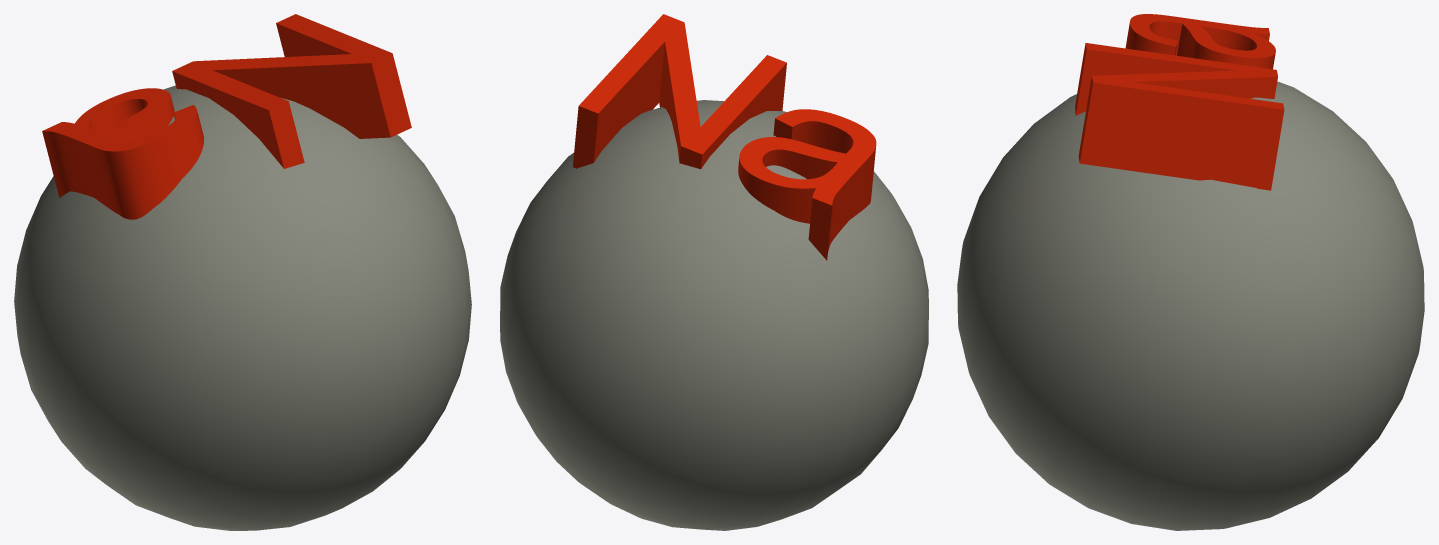
3 renders of one model, left to right at view 1: azimuth 30°, elevation 25°; view 2: azimuth 150°, elevation 25°; view 3: azimuth 270°, elevation 25°, orthographic. The views are drawn at different scales.
Visible parts, largest first — view 1: Na; view 2: Na; view 3: Na.
Boxes of the visible parts, bbox=[...] form: Na: bbox=[14, 14, 471, 530]; Na: bbox=[500, 14, 928, 530]; Na: bbox=[957, 14, 1424, 530].
Size of the model in its own units: 38.69 by 43.55 by 38.6.
